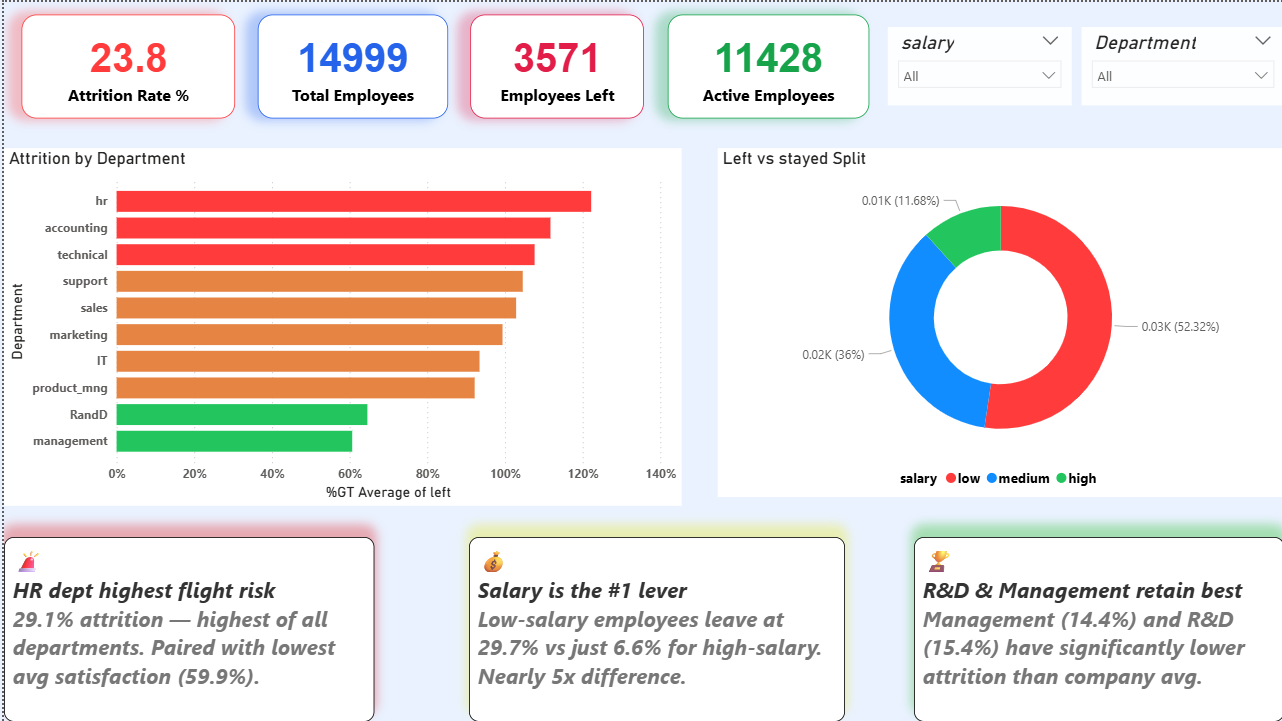

The dashboard page shown, as its layout file describes it:
{"tool":"powerbi","page":{"name":"OVERVIEW","canvas":[1280,720],"ordinal":0},"visuals":[{"type":"card","fields":{"Values":["HR_comma_sep.Attrition Rate %"]},"box":[17.5,12.5,213.8,103.8],"z":0},{"type":"card","fields":{"Values":["HR_comma_sep.Employees Left"]},"box":[466.2,12.5,173.8,103.8],"z":1000},{"type":"card","fields":{"Values":["HR_comma_sep.Active Employees"]},"box":[663.8,12.5,201.2,103.8],"z":2000},{"type":"card","fields":{"Values":["HR_comma_sep.Total Employees"]},"box":[253.8,12.5,190,103.8],"z":3000},{"type":"clusteredBarChart","title":"Attrition by Department","fields":{"Category":["HR_comma_sep.Department"],"Y":["Sum(HR_comma_sep.left)"]},"box":[0,146.2,677.5,357.5],"z":4000},{"type":"donutChart","title":"Left vs stayed Split","fields":{"Category":["HR_comma_sep.salary"],"Y":["HR_comma_sep.Attrition Rate %"]},"box":[713.8,146.2,566.2,348.8],"z":5000},{"type":"slicer","fields":{"Values":["HR_comma_sep.Department"]},"box":[1077.5,25,202.5,78.8],"z":6000},{"type":"slicer","fields":{"Values":["HR_comma_sep.salary"]},"box":[883.8,25,183.8,78.8],"z":7000},{"type":"textbox","box":[0,535,370,185],"z":8000},{"type":"textbox","box":[465,535,376.2,185],"z":9000},{"type":"textbox","box":[910,535,370,185],"z":10000}]}

Visuals, with their boxes in screenshot pixels (x1, y1, x2, y2), scaled from the page's 1280x720 canvas onto the 1282x721 screenshot:
card - HR_comma_sep.Attrition Rate %: crop(18, 13, 232, 116)
card - HR_comma_sep.Employees Left: crop(467, 13, 641, 116)
card - HR_comma_sep.Active Employees: crop(665, 13, 866, 116)
card - HR_comma_sep.Total Employees: crop(254, 13, 444, 116)
"Attrition by Department" clusteredBarChart: crop(0, 146, 679, 504)
"Left vs stayed Split" donutChart: crop(715, 146, 1281, 496)
slicer - HR_comma_sep.Department: crop(1079, 25, 1281, 104)
slicer - HR_comma_sep.salary: crop(885, 25, 1069, 104)
textbox: crop(0, 536, 371, 720)
textbox: crop(466, 536, 843, 720)
textbox: crop(911, 536, 1281, 720)
